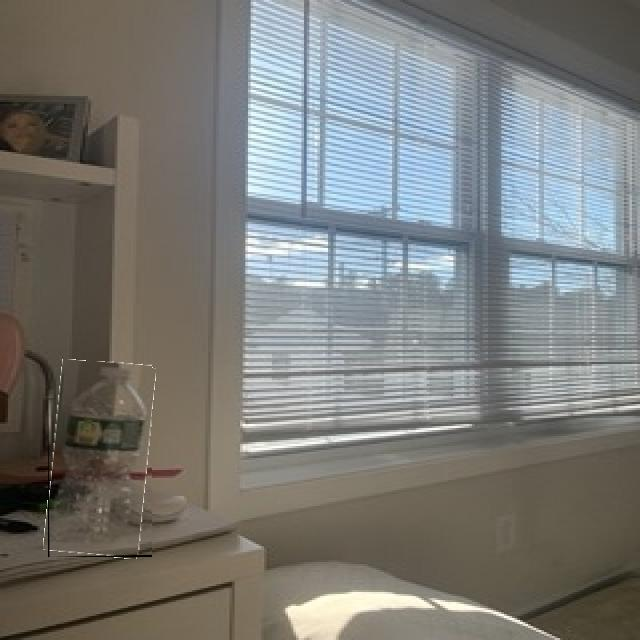water_bottle: (48, 361, 152, 557)
